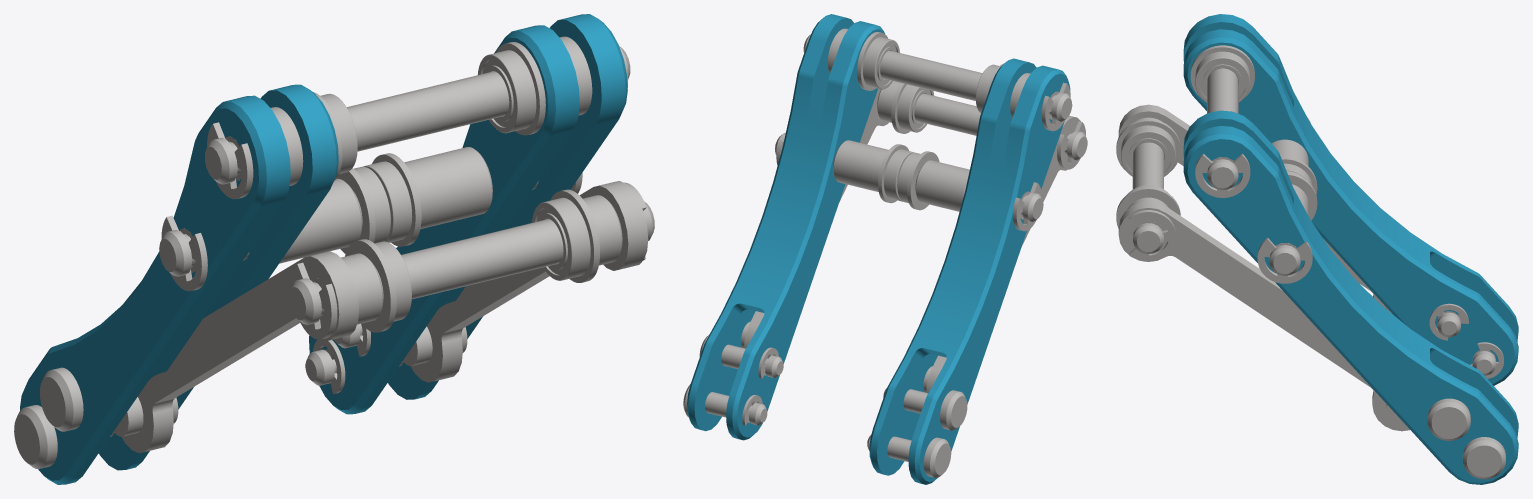
Rendered from RARM_INDEX_LINK1_mesh.dae.
The picture shows the model from 3 angles, left to right: view 1: azimuth 30°, elevation 25°; view 2: azimuth 150°, elevation 25°; view 3: azimuth 270°, elevation 25°; orthographic projection. The views are drawn at different scales.
Visible parts, largest first — view 1: サーフェス1_ncl1_2, サーフェス1_ncl1_1, サーフェス1_ncl1_3, サーフェス1_ncl1_34, サーフェス1_ncl1_25, サーフェス1, サーフェス1_ncl1_13, サーフェス1_ncl1_10, サーフェス1_ncl1_7, サーフェス1_ncl1_12, サーフェス1_ncl1_8, サーフェス1_ncl1_11 (+16 smaller); view 2: サーフェス1_ncl1_1, サーフェス1_ncl1_2, サーフェス1_ncl1_25, サーフェス1_ncl1_34, サーフェス1_ncl1_12, サーフェス1_ncl1_13, サーフェス1_ncl1_10, サーフェス1_ncl1_31, サーフェス1_ncl1_30, サーフェス1_ncl1_7, サーフェス1_ncl1_6, サーフェス1_ncl1_11 (+10 smaller); view 3: サーフェス1_ncl1_1, サーフェス1_ncl1_2, サーフェス1, サーフェス1_ncl1_34, サーフェス1_ncl1_25, サーフェス1_ncl1_8, サーフェス1_ncl1_9, サーフェス1_ncl1_29, サーフェス1_ncl1_28, サーフェス1_ncl1_3, サーフェス1_ncl1_22, サーフェス1_ncl1_15 (+9 smaller).
Part boxes in pixels (x1=…): サーフェス1_ncl1_2: x1=20, y1=84, x2=338, y2=484; サーフェス1_ncl1_1: x1=309, y1=14, x2=627, y2=414; サーフェス1_ncl1_3: x1=121, y1=251, x2=359, y2=452; サーフェス1_ncl1_34: x1=289, y1=202, x2=654, y2=324; サーフェス1_ncl1_25: x1=205, y1=46, x2=630, y2=184; サーフェス1: x1=410, y1=181, x2=648, y2=382; サーフェス1_ncl1_13: x1=404, y1=147, x2=492, y2=229; サーフェス1_ncl1_10: x1=477, y1=42, x2=545, y2=135; サーフェス1_ncl1_7: x1=532, y1=189, x2=599, y2=282; サーフェス1_ncl1_12: x1=279, y1=178, x2=362, y2=263; サーフェス1_ncl1_8: x1=345, y1=239, x2=411, y2=332; サーフェス1_ncl1_11: x1=363, y1=153, x2=421, y2=246; サーフェス1_ncl1_1: x1=687, y1=14, x2=884, y2=440; サーフェス1_ncl1_2: x1=869, y1=58, x2=1070, y2=484; サーフェス1_ncl1_25: x1=803, y1=34, x2=1072, y2=121; サーフェス1_ncl1_34: x1=914, y1=93, x2=1087, y2=160; サーフェス1_ncl1_12: x1=915, y1=160, x2=969, y2=211; サーフェス1_ncl1_13: x1=833, y1=140, x2=888, y2=191; サーフェス1_ncl1_10: x1=857, y1=32, x2=899, y2=90; サーフェス1_ncl1_31: x1=867, y1=435, x2=951, y2=477; サーフェス1_ncl1_30: x1=883, y1=388, x2=967, y2=430; サーフェス1_ncl1_7: x1=891, y1=83, x2=934, y2=133; サーフェス1_ncl1_6: x1=897, y1=151, x2=939, y2=210; サーフェス1_ncl1_11: x1=878, y1=144, x2=914, y2=203; サーフェス1_ncl1_1: x1=1183, y1=110, x2=1518, y2=484; サーフェス1_ncl1_2: x1=1183, y1=14, x2=1518, y2=385; サーフェス1: x1=1118, y1=201, x2=1409, y2=431; サーフェス1_ncl1_34: x1=1132, y1=142, x2=1163, y2=253; サーフェス1_ncl1_25: x1=1207, y1=68, x2=1238, y2=190; サーフェス1_ncl1_8: x1=1116, y1=119, x2=1180, y2=176; サーフェス1_ncl1_9: x1=1190, y1=45, x2=1254, y2=102; サーフェス1_ncl1_29: x1=1427, y1=398, x2=1470, y2=440; サーフェス1_ncl1_28: x1=1462, y1=437, x2=1505, y2=479; サーフェス1_ncl1_3: x1=1118, y1=104, x2=1386, y2=308; サーフェス1_ncl1_22: x1=1128, y1=210, x2=1175, y2=261; サーフェス1_ncl1_15: x1=1257, y1=237, x2=1312, y2=283.
Bounding box in the file's own units: 0.041 × 0.0511 × 0.0492.
